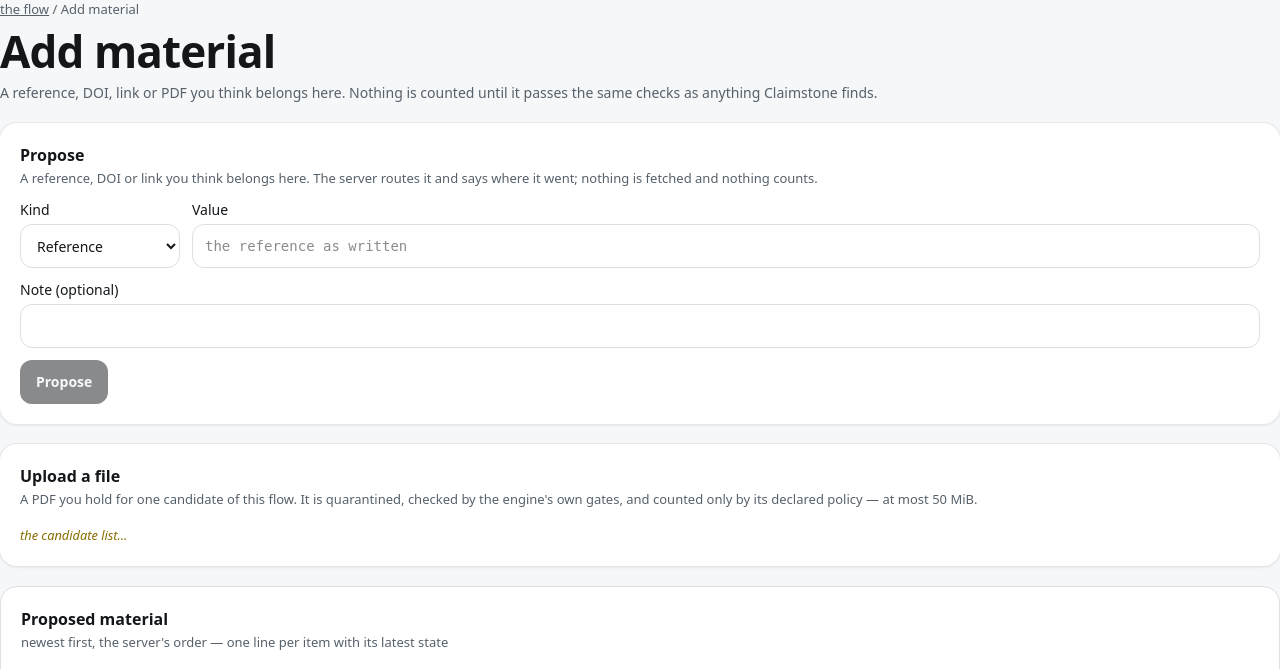
Test: F5: Add material page › shows the proposal's answer row with the server's state and reason
The width and height of the screenshot is (1280, 669).
Type "Working paper 2017" into the field labelled "Value".
click(726, 246); type("Working paper 2017")  # box [192, 224, 1260, 268]
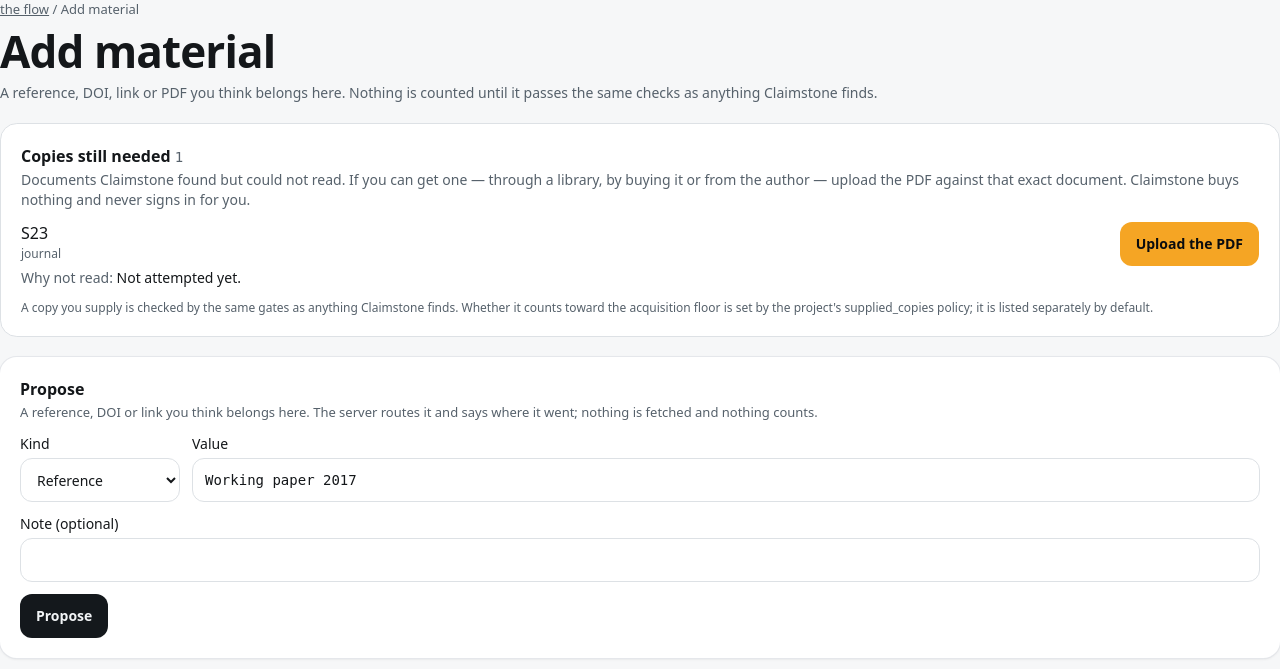
Click the button "Propose".
click(64, 616)  # box [20, 594, 108, 638]
(page scrolled)
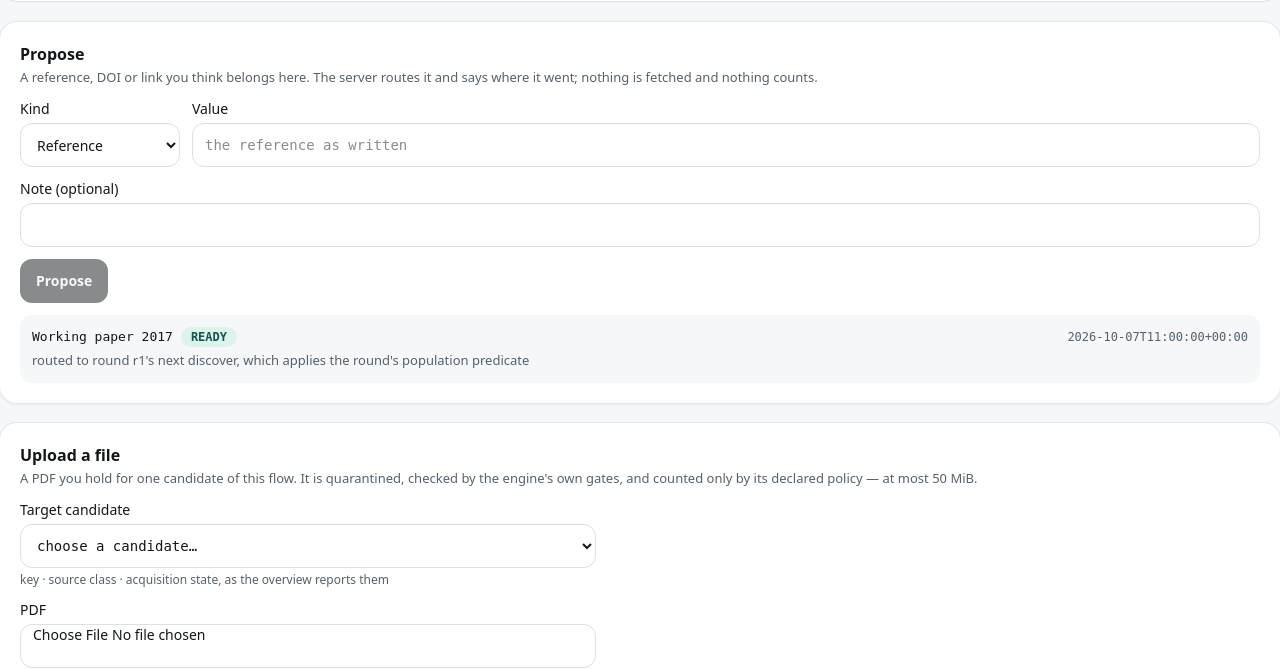
Expected: the element with test id "propose-result" is shown, [20, 315, 1260, 382]
Expected: the text "READY" is shown, [181, 327, 237, 347]
Expected: the text "routed to round r1's next discover, which applies the round's population predicate" is shown, [32, 351, 529, 369]
